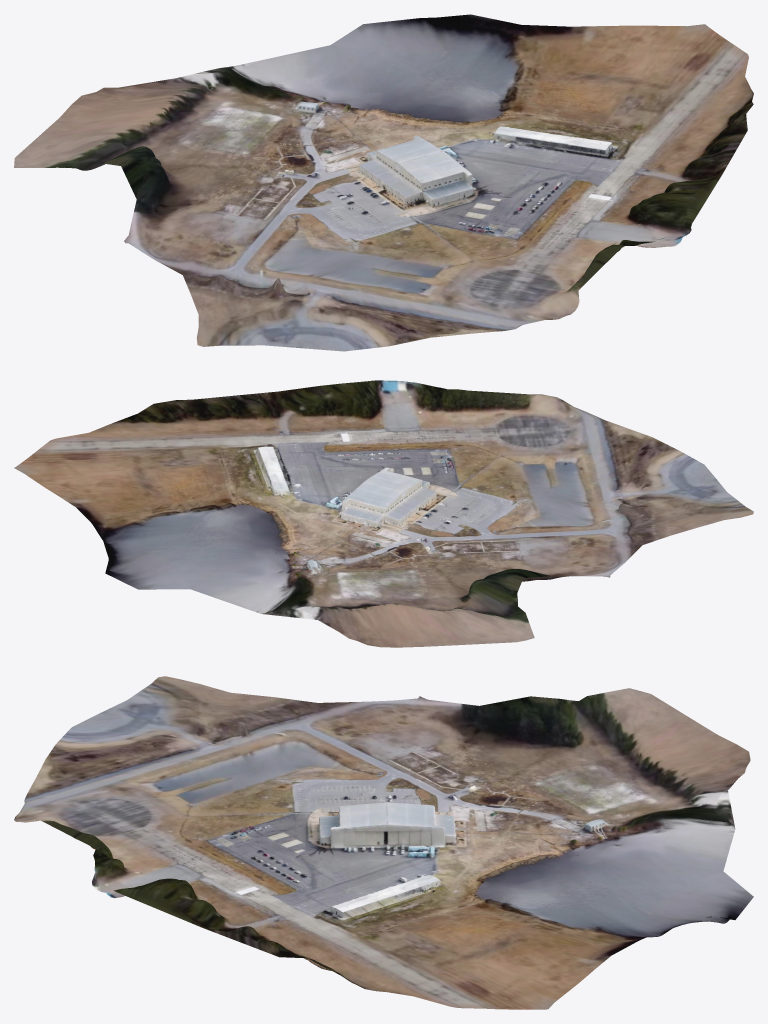
The model's file is hangargllb.glb.
3 renders of one model, top to bottom at view 1: azimuth 30°, elevation 25°; view 2: azimuth 150°, elevation 25°; view 3: azimuth 270°, elevation 25°, orthographic. The views are drawn at different scales.
Visible parts, largest first — view 1: Object_4; view 2: Object_4; view 3: Object_4.
Part boxes in pixels (<box>): Object_4: <box>14,14,753,351</box>; Object_4: <box>14,380,753,647</box>; Object_4: <box>14,676,753,1009</box>.
Bounding box in the file's own units: 3.38 × 0.158 × 2.99.
1 material, 1 textured.
